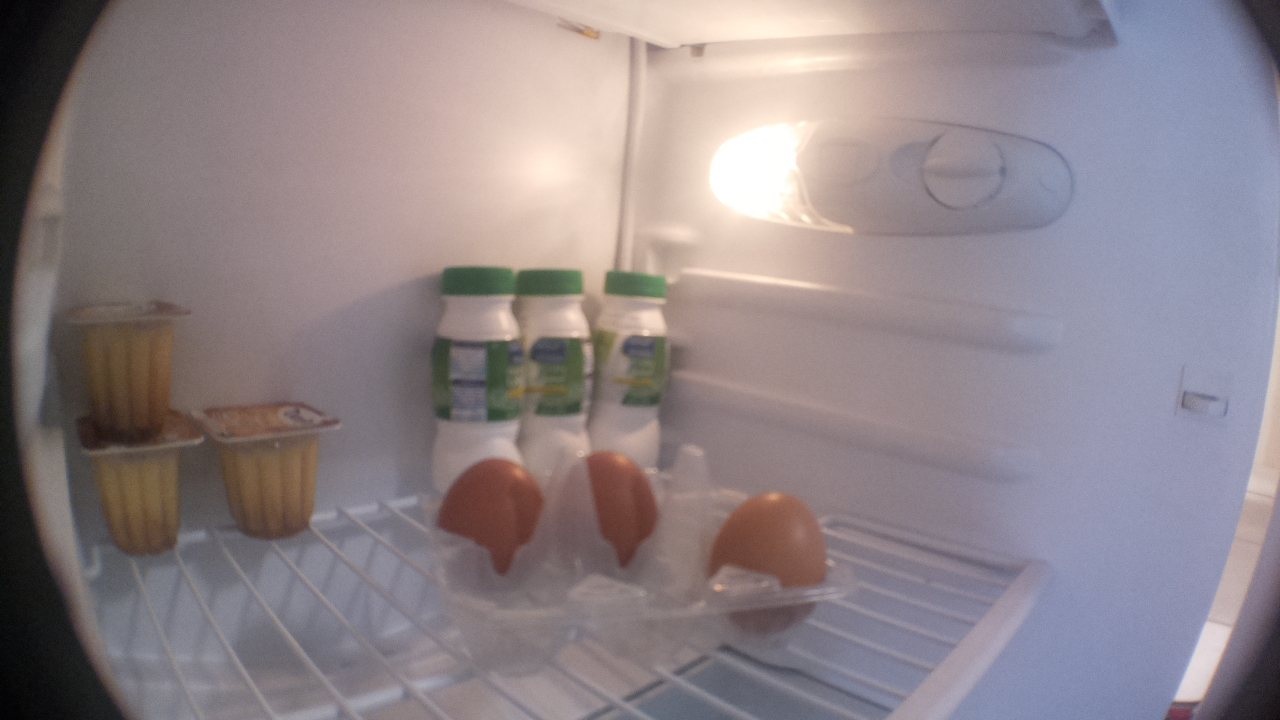caramel: (191, 396, 346, 540), (58, 302, 199, 441), (71, 423, 208, 556)
egg: (707, 490, 830, 649), (435, 453, 552, 593), (564, 449, 666, 586)
laban: (430, 261, 515, 457), (593, 269, 681, 447), (519, 266, 592, 443)
